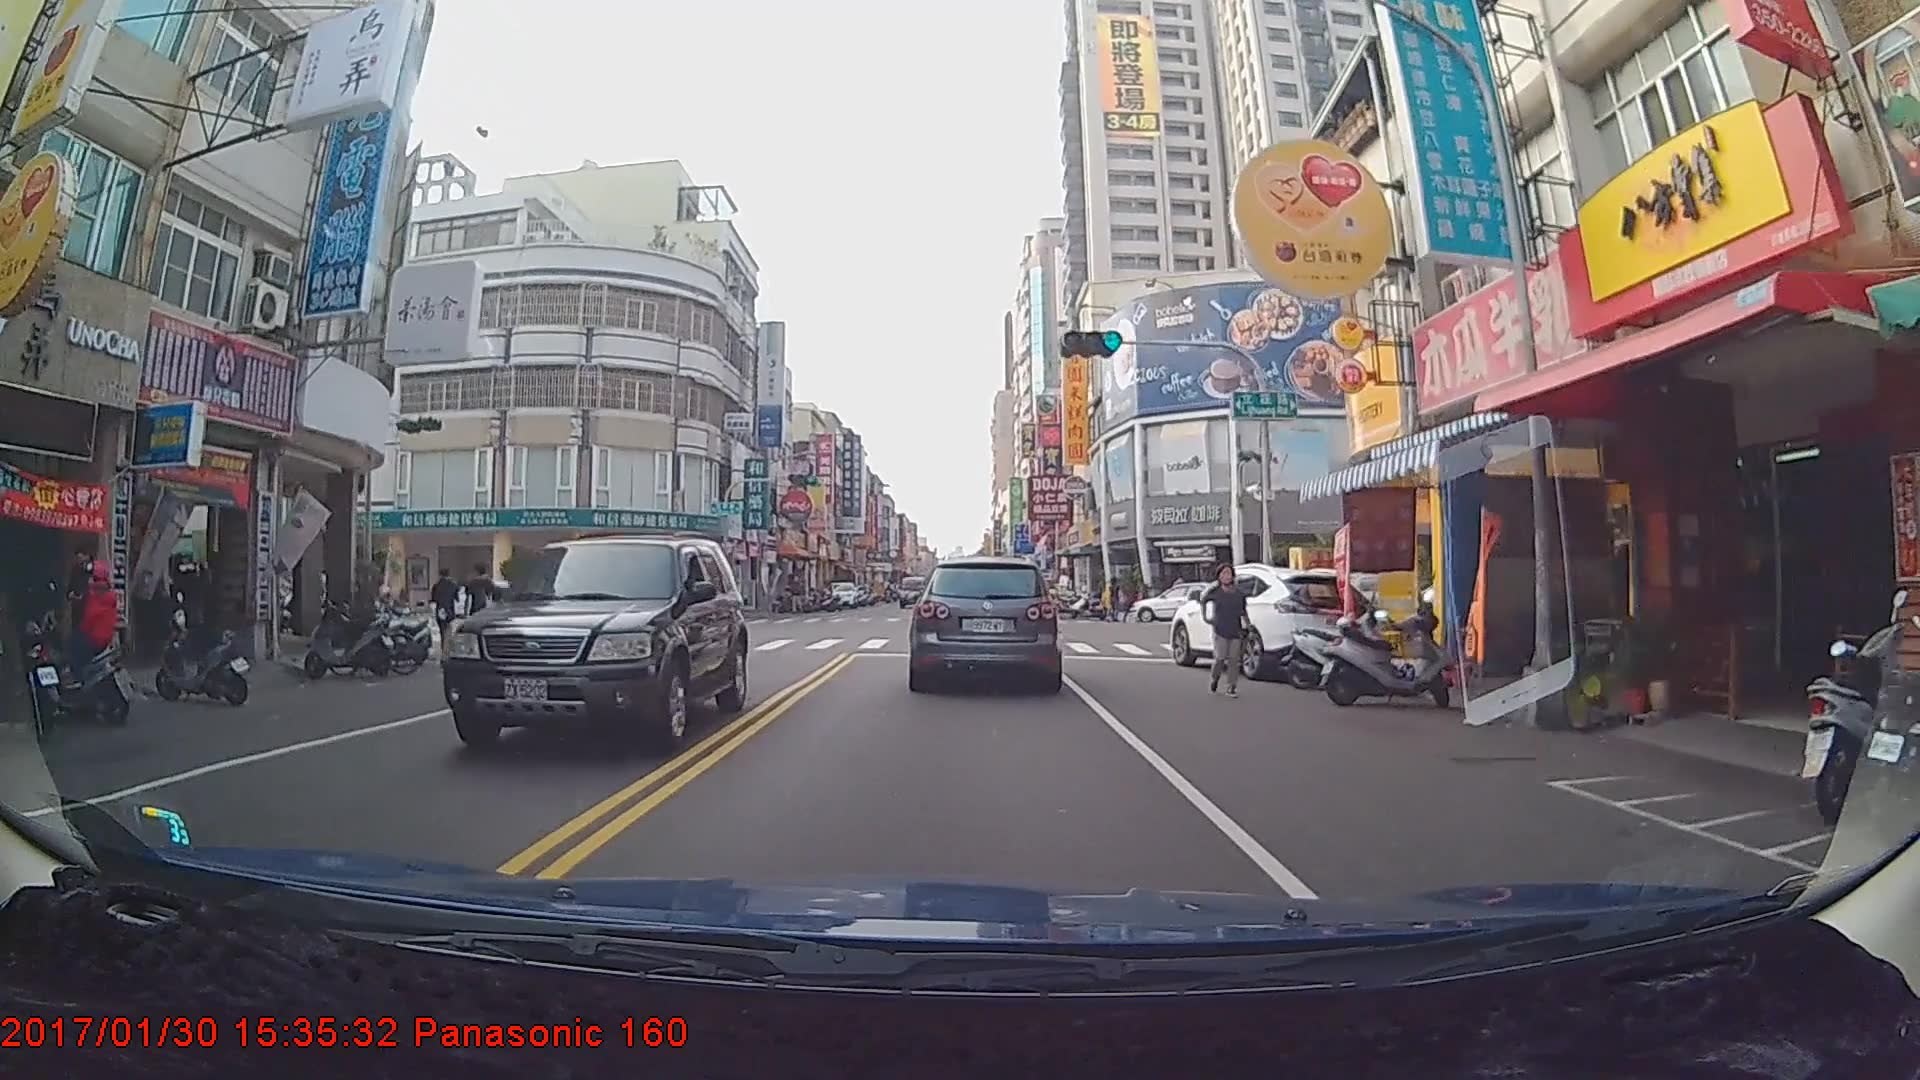pedestrian: (62, 541, 111, 687), (1206, 566, 1254, 704), (462, 559, 504, 661), (430, 567, 461, 658)
rider: (25, 558, 138, 722)
vehicle: (429, 534, 746, 758), (1168, 565, 1383, 682), (908, 554, 1060, 691), (1126, 581, 1248, 622), (824, 578, 860, 609), (897, 577, 929, 609)
